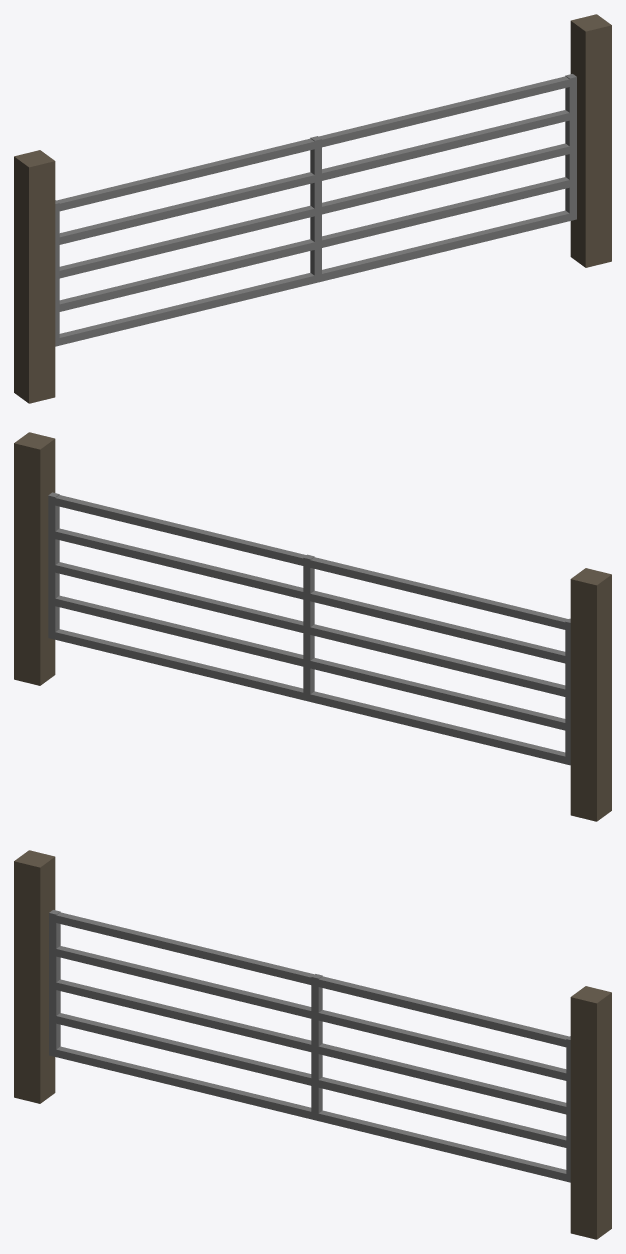
File: gate.fbx
3 views of the same model, one above another, from view 1: azimuth 30°, elevation 25°; view 2: azimuth 150°, elevation 25°; view 3: azimuth 330°, elevation 25° (orthographic).
Parts seen in each view (by area): view 1: a1003/0/gate; view 2: a1003/0/gate; view 3: a1003/0/gate.
Part boxes in pixels (bbox=[...]): a1003/0/gate: bbox=[14, 14, 611, 403]; a1003/0/gate: bbox=[14, 432, 611, 821]; a1003/0/gate: bbox=[14, 850, 611, 1239].
Bounding box in the file's own units: 4 × 1.55 × 0.18.
